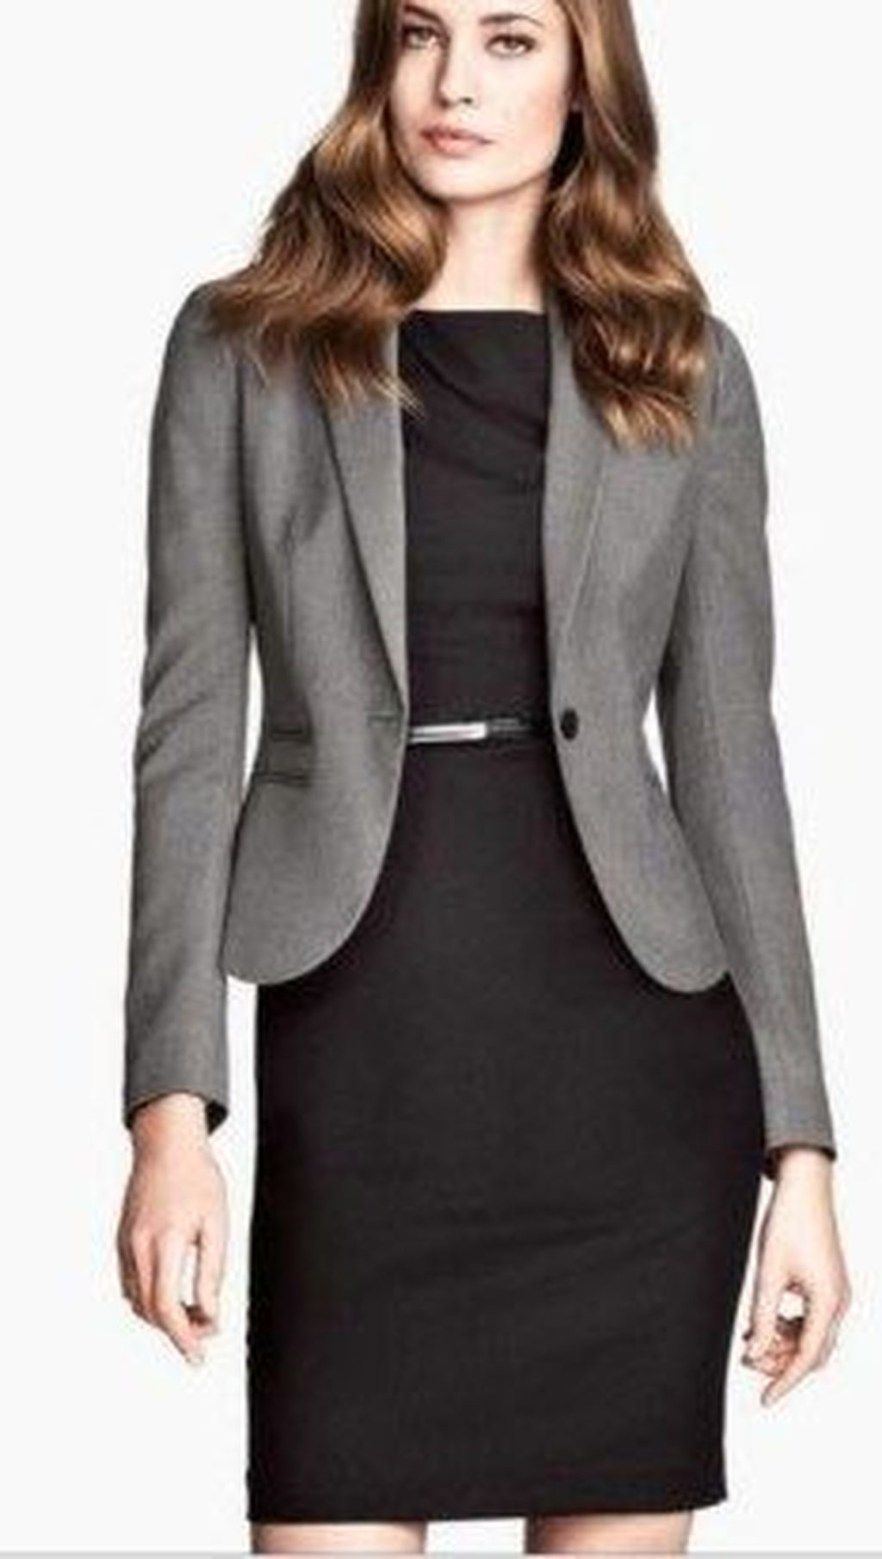F_W_suit jacket: (97, 253, 832, 1147)
